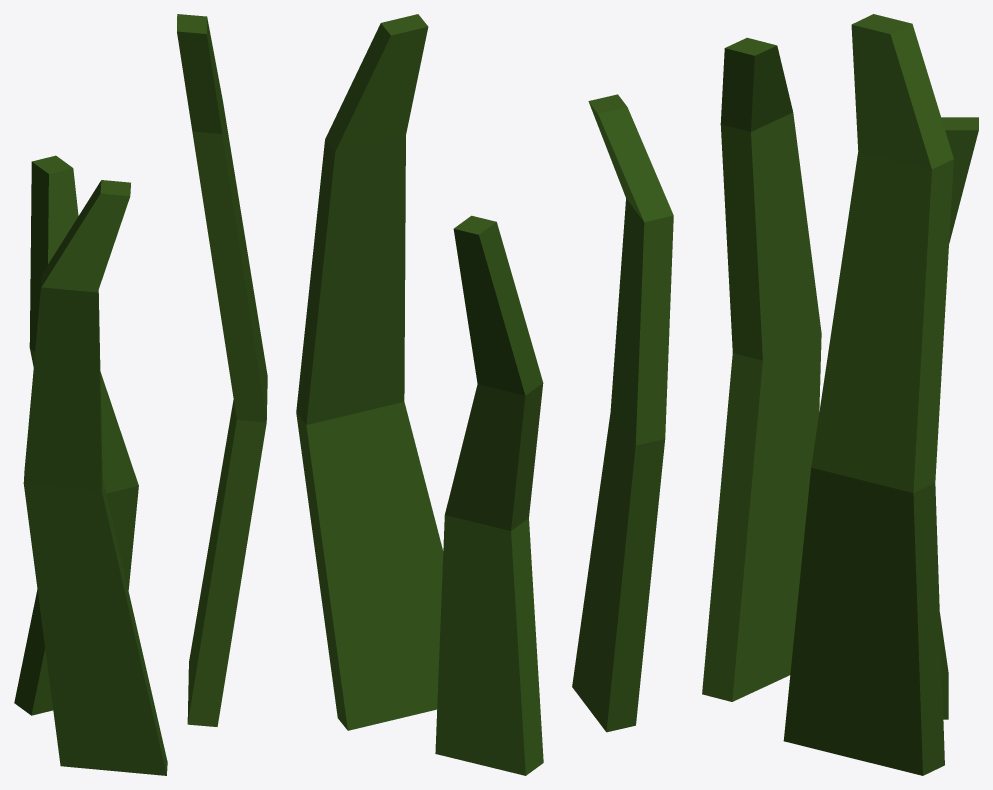
Rendered from Vegetation_Seaweed_01.fbx.
The picture shows the model from 3 angles, left to right: view 1: azimuth 30°, elevation 25°; view 2: azimuth 150°, elevation 25°; view 3: azimuth 270°, elevation 25°; orthographic projection. The views are drawn at different scales.
Visible parts, largest first — view 1: Vegetation_Seaweed_01; view 2: Vegetation_Seaweed_01; view 3: Vegetation_Seaweed_01.
Boxes of the visible parts, left/top/right/bottom form: Vegetation_Seaweed_01: left=14, top=14, right=267, bottom=775; Vegetation_Seaweed_01: left=296, top=14, right=673, bottom=775; Vegetation_Seaweed_01: left=702, top=14, right=978, bottom=775.
Bounding box in the file's own units: 472 × 1000 × 345.
